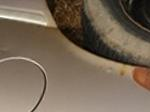rust: (50, 3, 150, 87)
